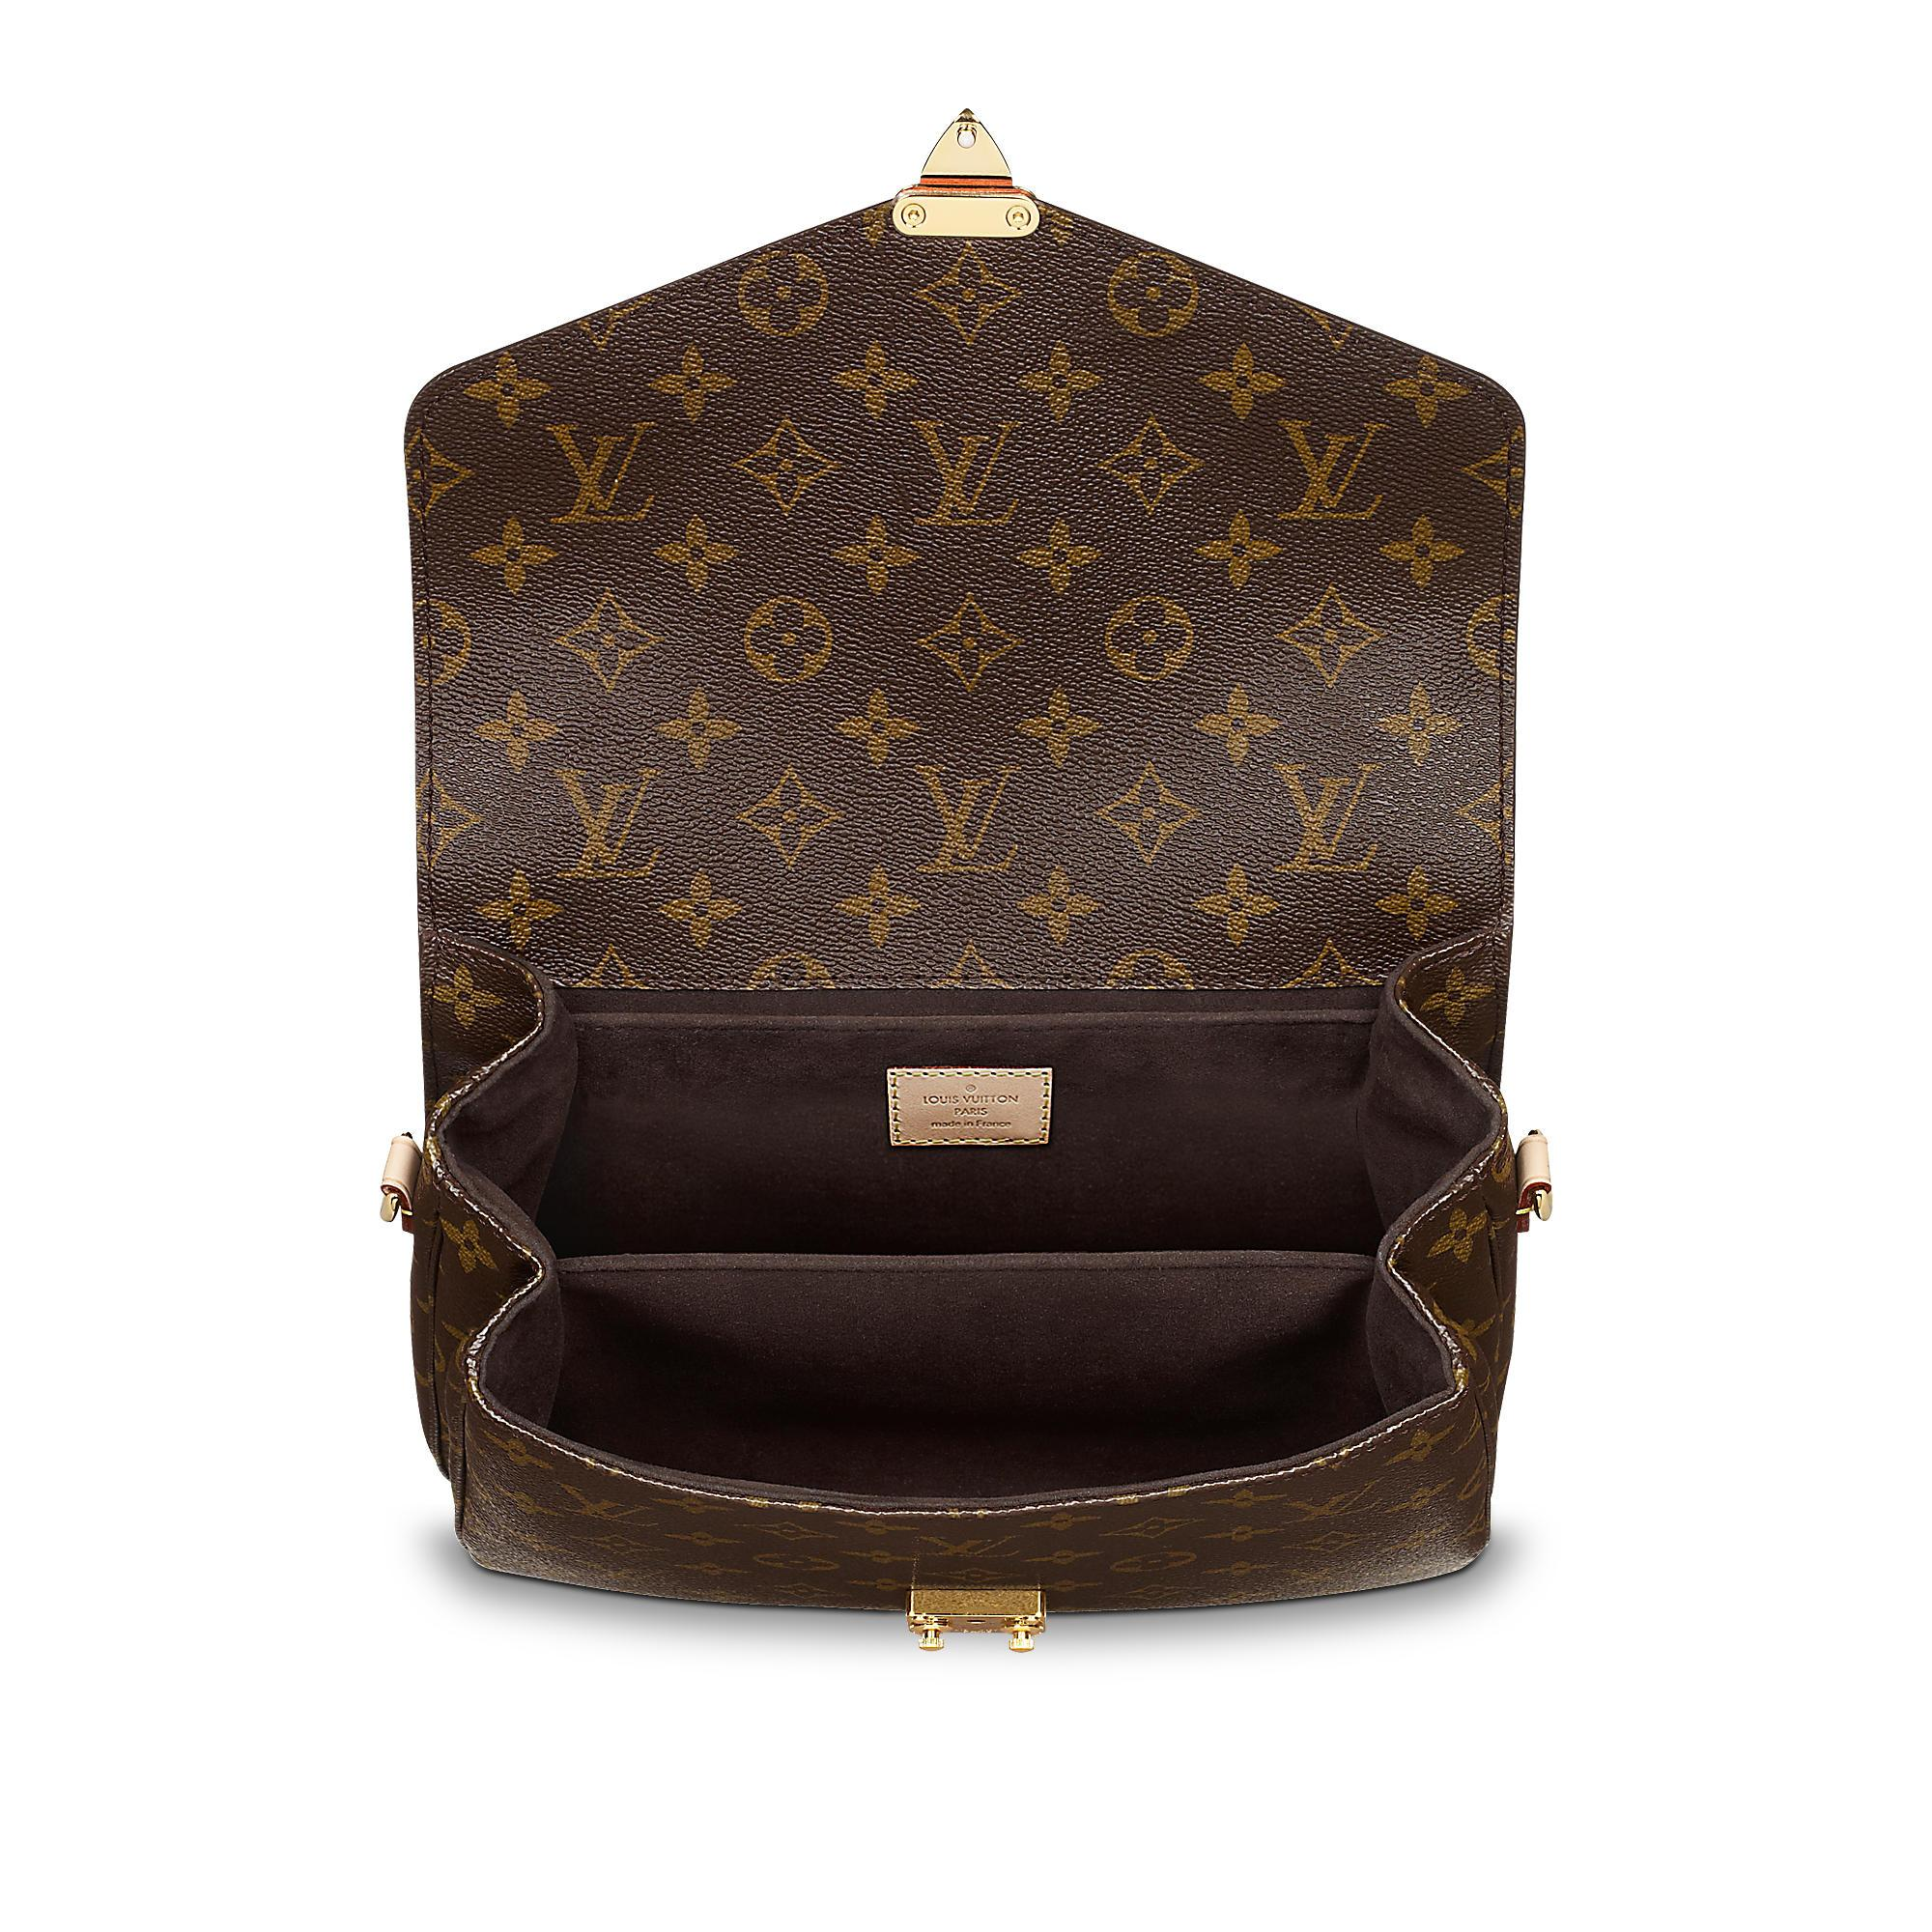LOUIS-VUITTON: (545, 757, 663, 879), (1267, 757, 1384, 874), (908, 410, 1021, 529), (904, 759, 1017, 874), (1279, 410, 1389, 527), (540, 421, 658, 529), (552, 1479, 649, 1530), (1290, 1476, 1384, 1527), (920, 1529, 1017, 1560)
